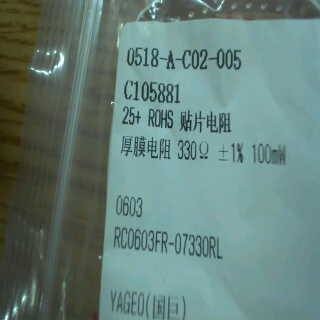330R: (177, 135, 210, 164)
